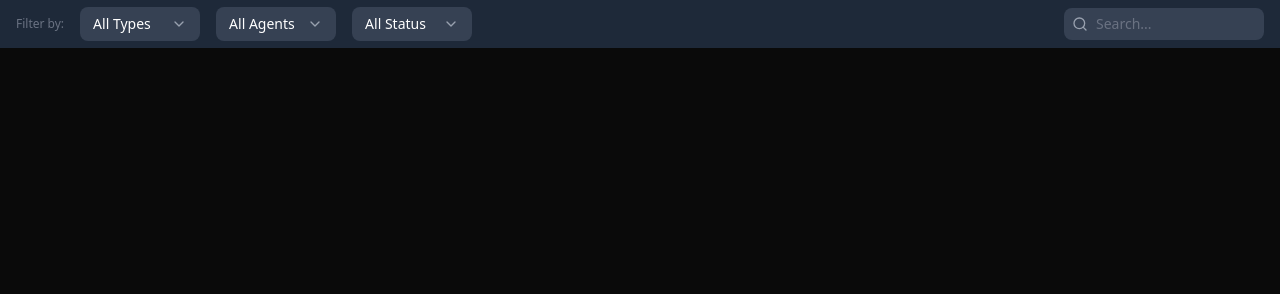
FilterBar › Status dropdown › should display all status filter options
The image size is (1280, 294).
Click the button with test id "status-filter-dropdown". click: (412, 24)
box: x1=352 y1=7 x2=472 y2=41
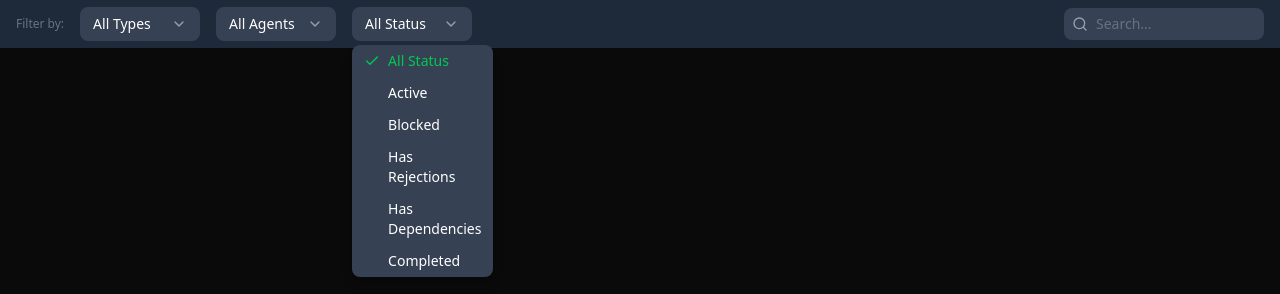
Now the option "All Status" is shown, box x1=364 y1=51 x2=449 y2=70
Now the option "Active" is shown, box x1=388 y1=83 x2=427 y2=102
Now the option "Blocked" is shown, box x1=388 y1=115 x2=440 y2=134
